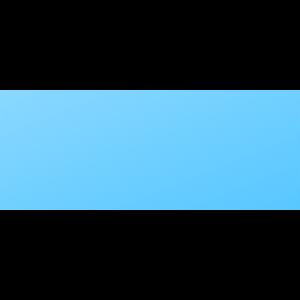cyan_zone: (1, 89, 300, 211)
